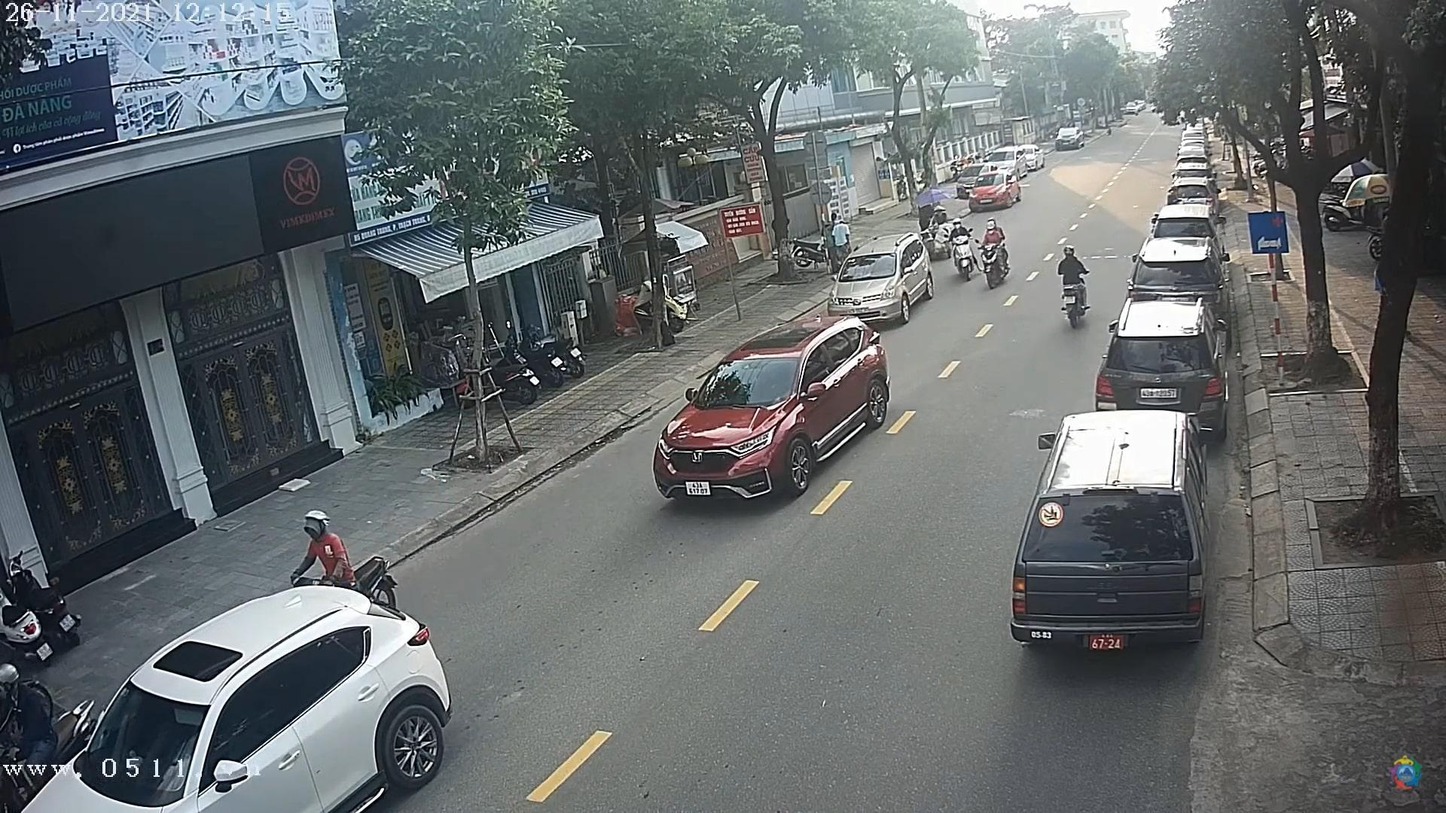car: (1014, 411, 1208, 649), (648, 315, 892, 501), (1097, 300, 1228, 419), (826, 245, 935, 331), (1135, 234, 1220, 288), (968, 182, 1023, 213), (1166, 184, 1217, 209), (1170, 158, 1213, 181), (1057, 125, 1089, 149)
motorbike: (1055, 246, 1092, 325), (980, 243, 1015, 292), (951, 234, 981, 281)
